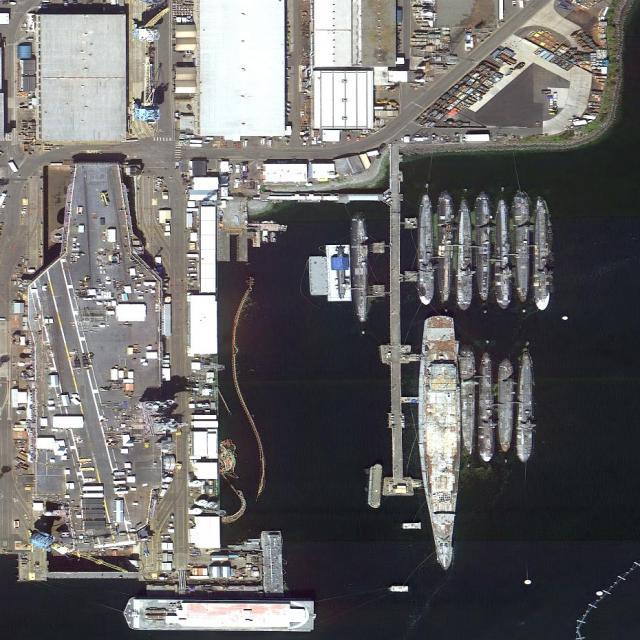Aircraft Carrier: (24, 162, 166, 536)
Cargo: (121, 593, 318, 633)
Dock: (372, 188, 423, 501)
Other Ship: (388, 585, 409, 593)
Submarine: (458, 345, 477, 454), (351, 215, 370, 323), (533, 200, 551, 310), (514, 192, 530, 301), (495, 201, 511, 309), (458, 200, 472, 310), (520, 350, 533, 462), (419, 196, 432, 304), (478, 192, 491, 300), (480, 352, 493, 460), (438, 193, 451, 300), (498, 360, 513, 451), (336, 253, 347, 299)
